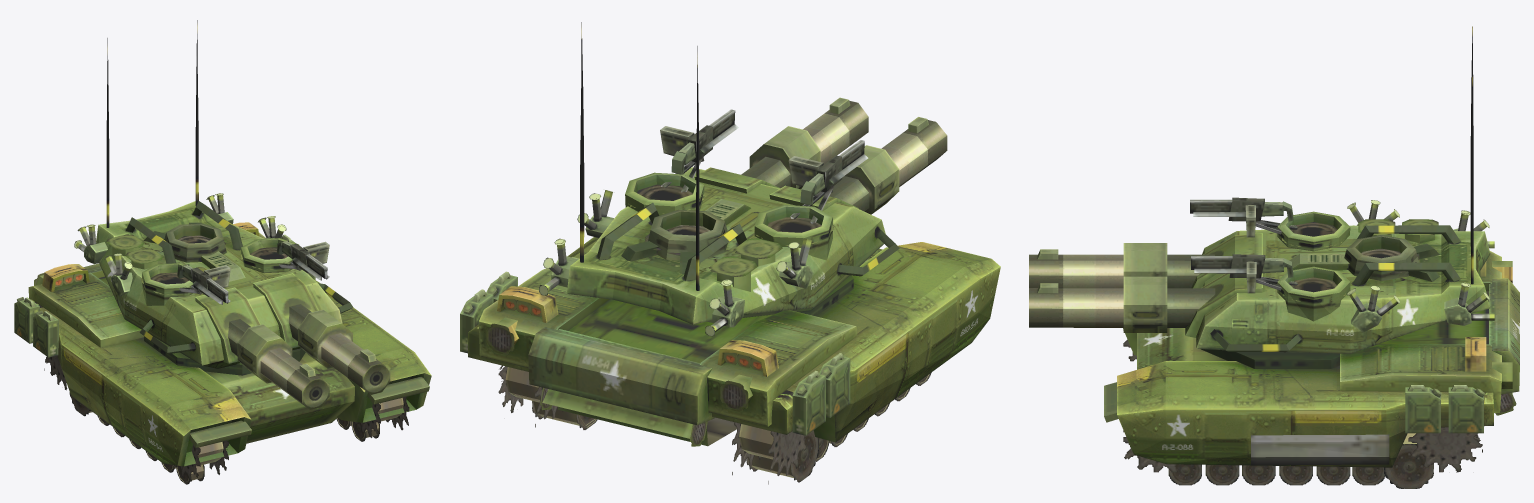
The model's file is VWFHTNKH.obj.
3 renders of one model, left to right at view 1: azimuth 30°, elevation 25°; view 2: azimuth 150°, elevation 25°; view 3: azimuth 270°, elevation 25°, orthographic. The views are drawn at different scales.
Parts seen in each view (by area): view 1: Node 0, Node 2, Node 16, Node 18, Node 10, Node 5, Node 49, Node 24, Node 33, Node 47, Node 23, Node 22; view 2: Node 0, Node 2, Node 16, Node 18, Node 34, Node 10, Node 5, Node 47, Node 49, Node 25, Node 41, Node 43 (+3 smaller); view 3: Node 0, Node 2, Node 18, Node 16, Node 10, Node 5, Node 25, Node 45, Node 43, Node 32, Node 26, Node 30 (+5 smaller).
Part boxes in pixels (x1,y1,x2,y2): Node 0: [28, 222, 431, 466]; Node 2: [74, 193, 353, 368]; Node 16: [228, 319, 329, 409]; Node 18: [289, 304, 390, 394]; Node 10: [177, 264, 230, 304]; Node 5: [277, 241, 329, 280]; Node 49: [33, 311, 58, 357]; Node 24: [355, 396, 409, 437]; Node 33: [174, 440, 228, 481]; Node 47: [14, 297, 39, 343]; Node 23: [106, 38, 109, 227]; Node 22: [195, 20, 198, 205]; Node 0: [468, 237, 1000, 446]; Node 2: [539, 167, 899, 336]; Node 16: [829, 117, 947, 214]; Node 18: [741, 97, 868, 189]; Node 34: [732, 422, 806, 484]; Node 10: [788, 140, 868, 204]; Node 5: [660, 109, 738, 174]; Node 47: [792, 370, 825, 435]; Node 49: [819, 353, 850, 417]; Node 25: [498, 365, 562, 427]; Node 41: [746, 430, 818, 482]; Node 43: [460, 289, 493, 353]; Node 0: [1104, 251, 1519, 467]; Node 2: [1185, 200, 1494, 353]; Node 18: [1029, 276, 1215, 332]; Node 16: [1029, 243, 1214, 288]; Node 10: [1190, 197, 1293, 237]; Node 5: [1191, 254, 1293, 293]; Node 25: [1408, 427, 1482, 472]; Node 45: [1405, 385, 1441, 433]; Node 43: [1448, 385, 1484, 433]; Node 32: [1384, 433, 1433, 488]; Node 26: [1205, 465, 1239, 485]; Node 30: [1242, 465, 1275, 485].
Size of what is drawn, in the model's own units: 6.01 by 6.98 by 7.88.
Materials: 40 (40 with a texture image).
